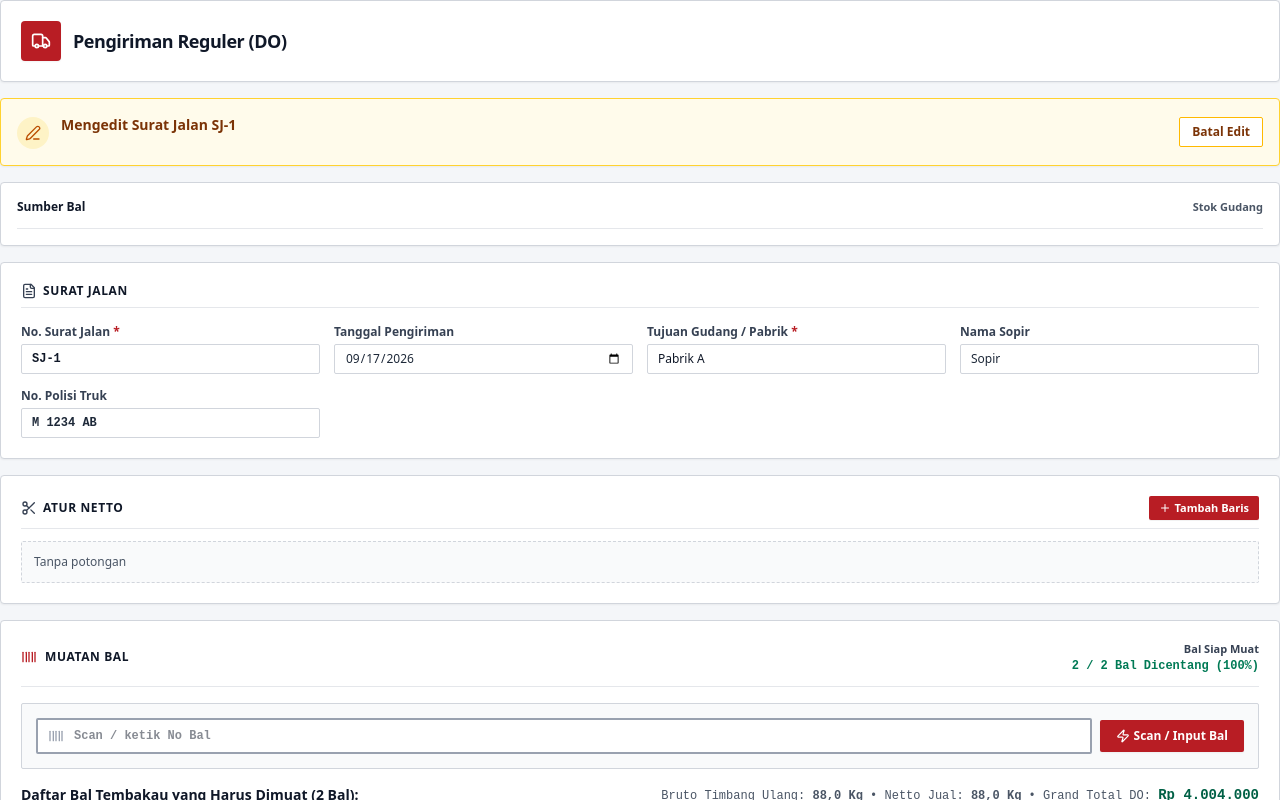
Test case: Pengiriman Reguler: mode edit Surat Jalan yang belum Selesai › bal yang sudah keluar lewat Surat Jalan lain ditolak saat discan
Type "B9" into the field with placeholder "Scan / ketik No Bal" at coordinates (564, 736), box [36,718,1092,754]
Then press Enter
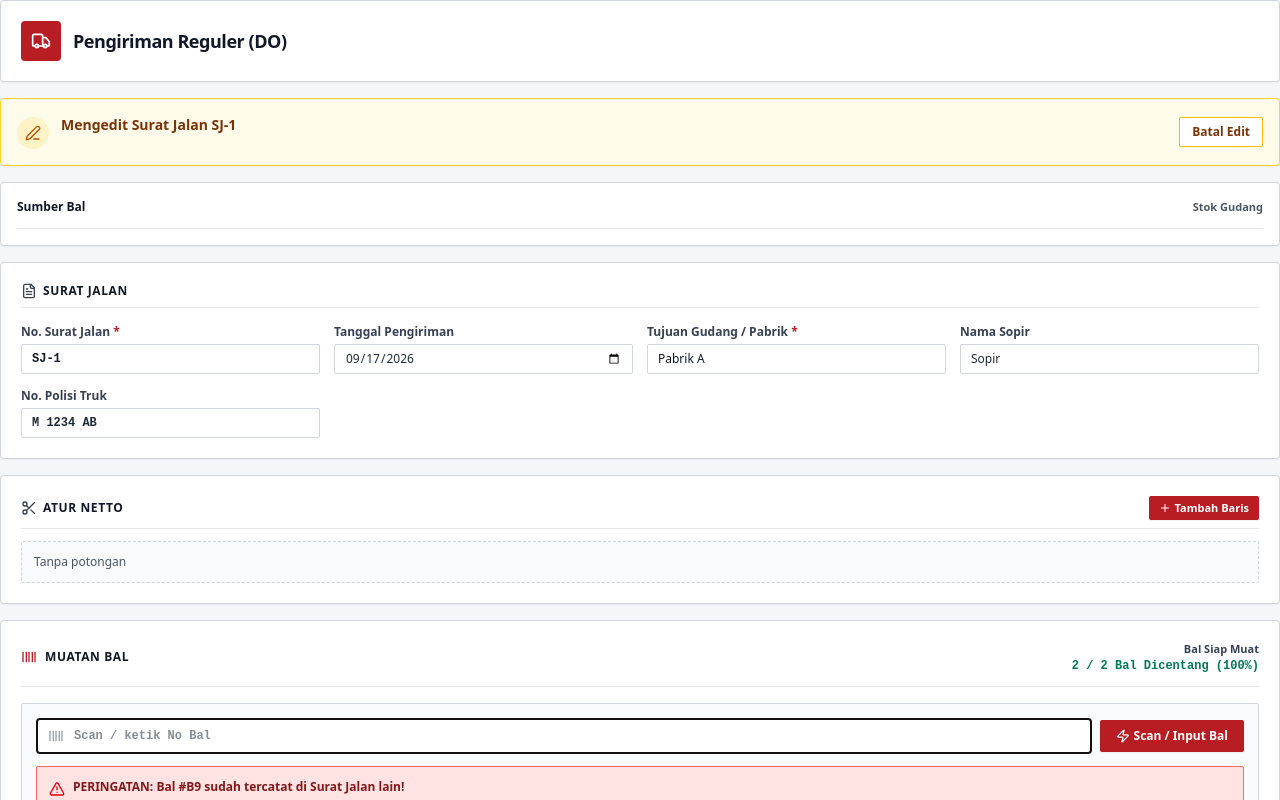
Expected: the text "PERINGATAN: Bal #B9 sudah tercatat di Surat Jalan lain!" is shown, [73,778,404,794]
